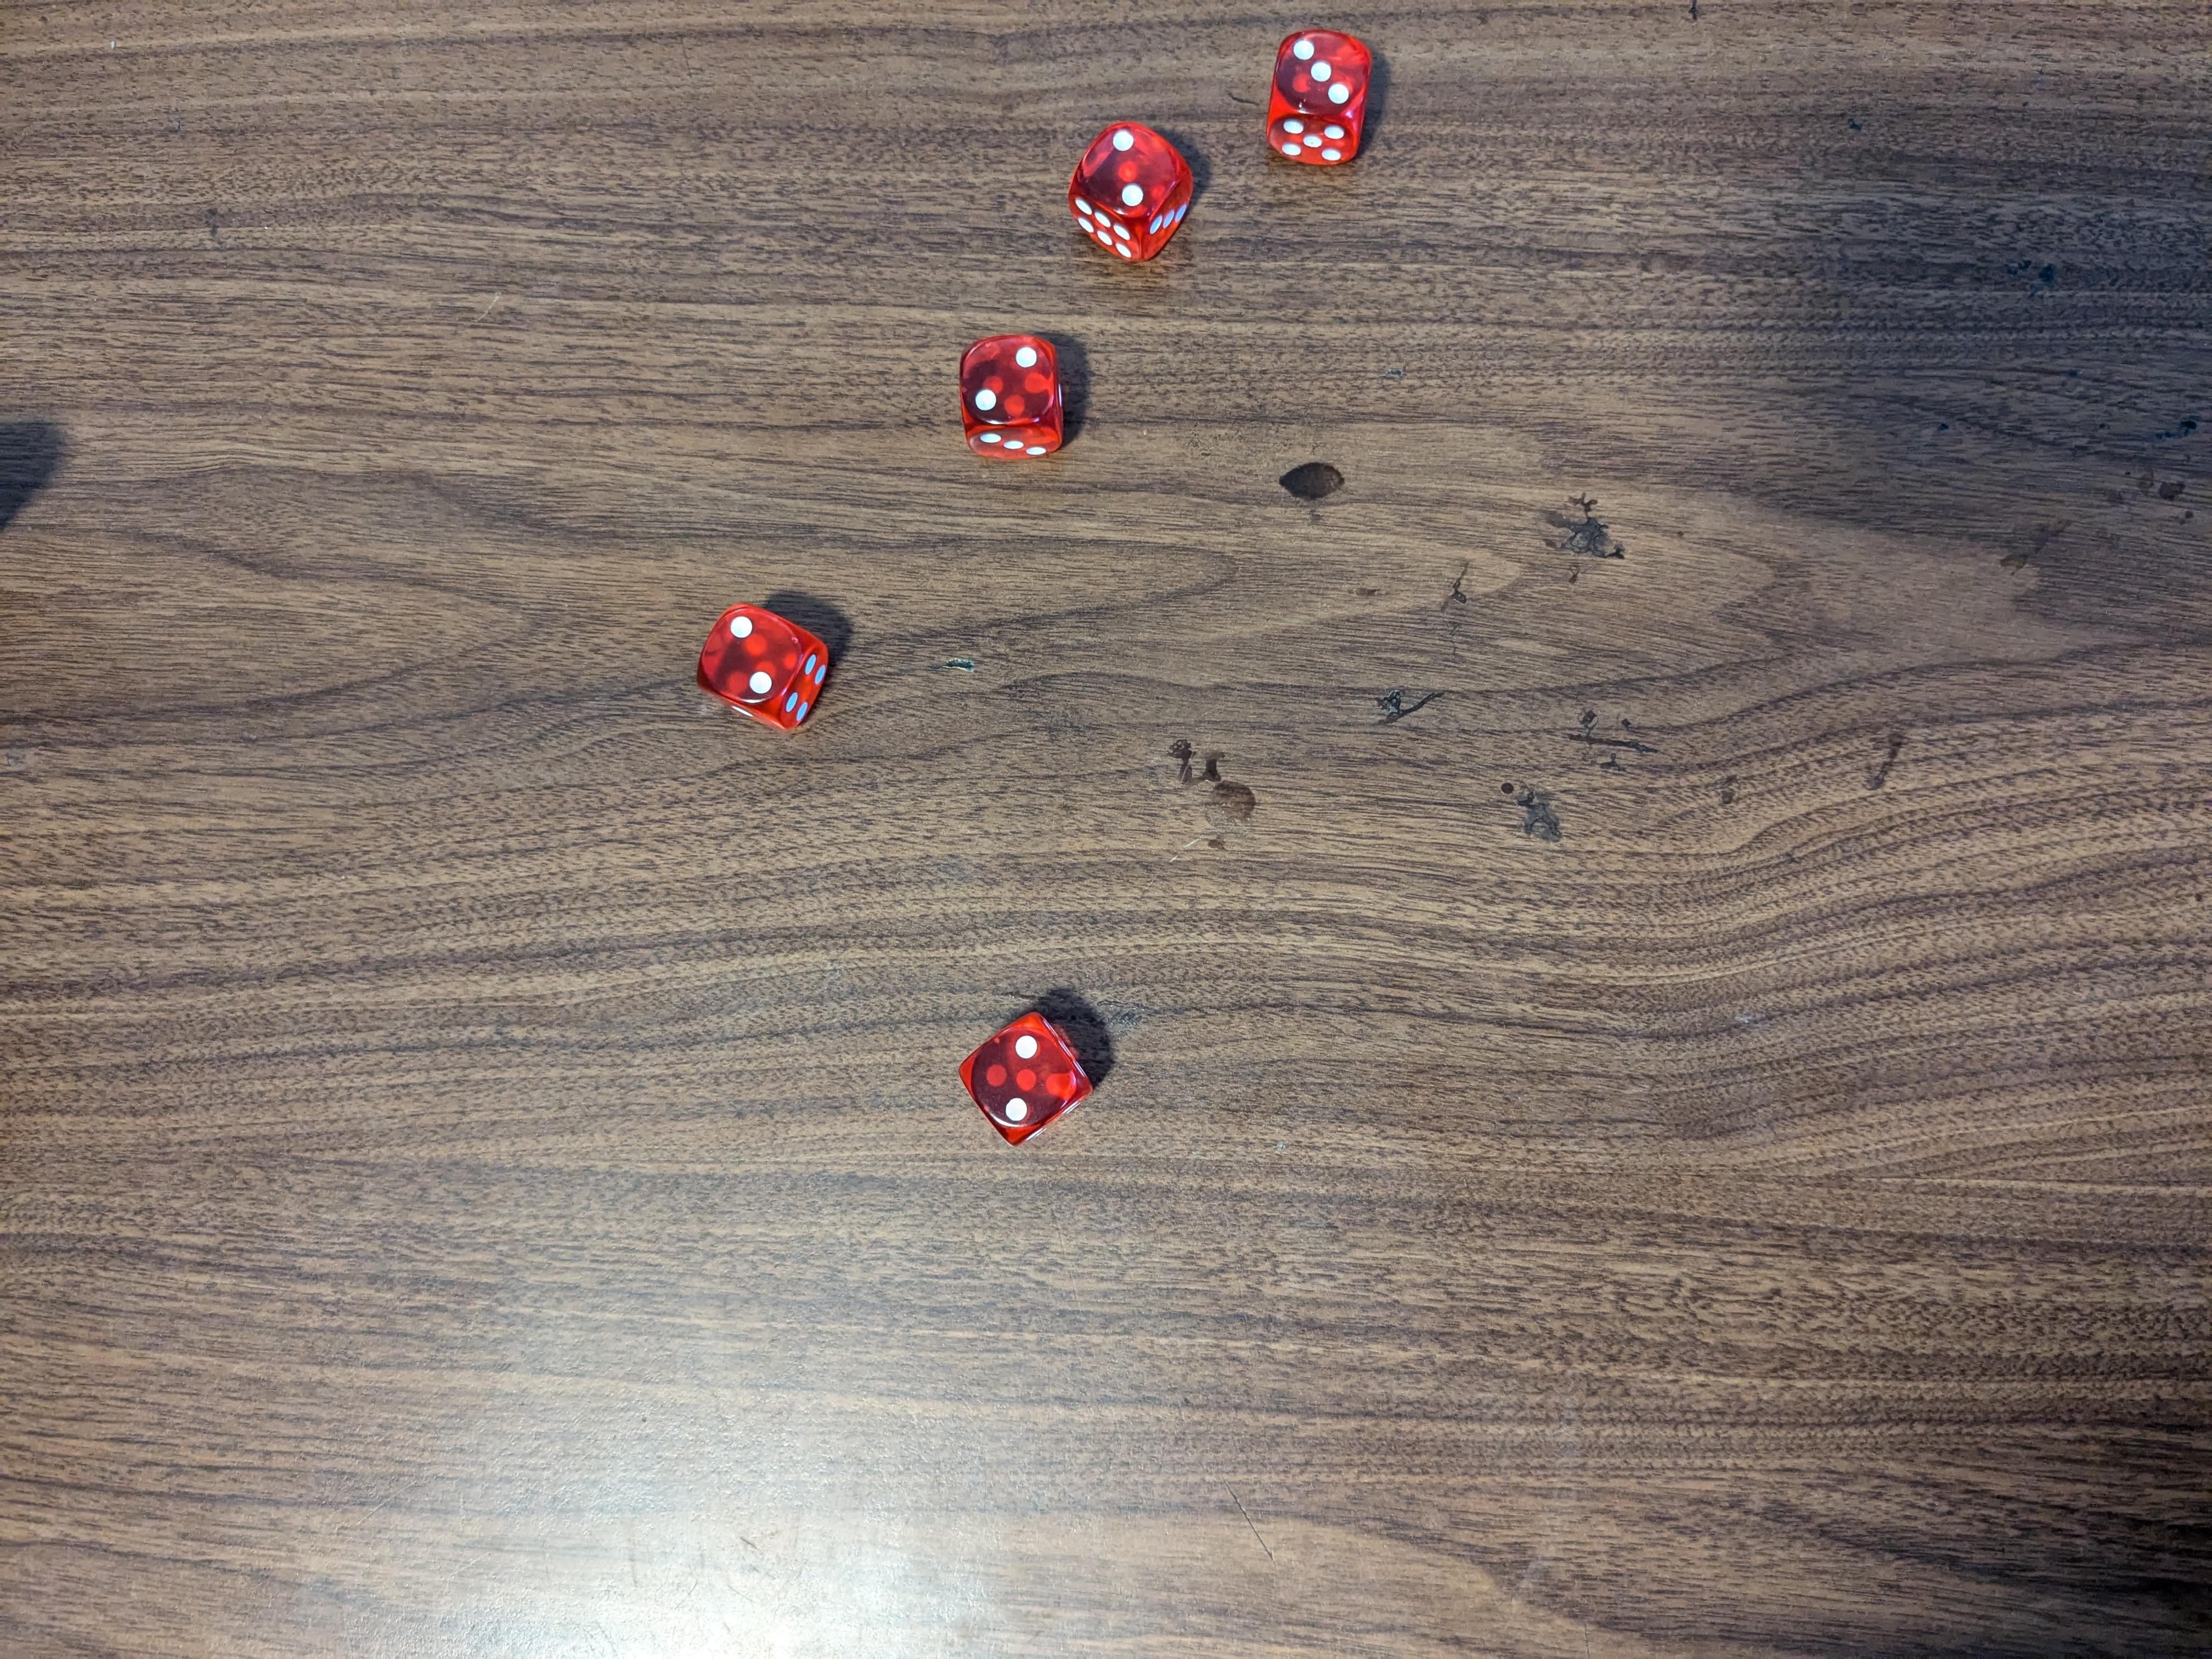three: (1266, 23, 1386, 167)
two: (1061, 113, 1198, 263), (691, 599, 838, 735), (961, 1009, 1094, 1138), (961, 329, 1071, 469)
